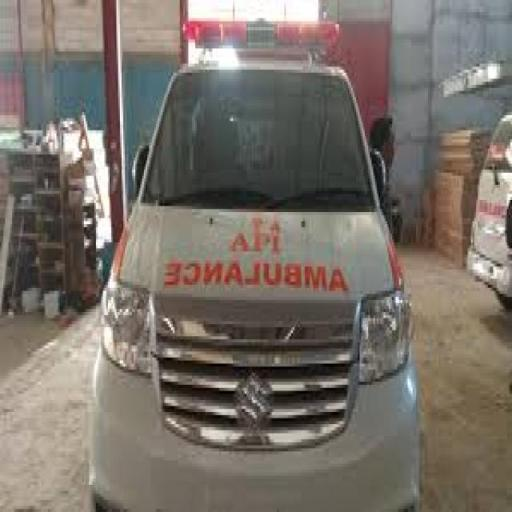Police car: (92, 18, 422, 509)
